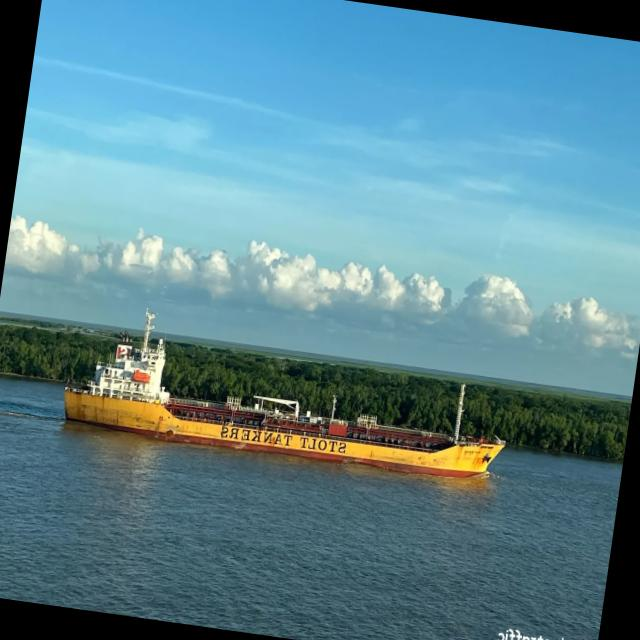Tanker: (65, 311, 504, 477)
